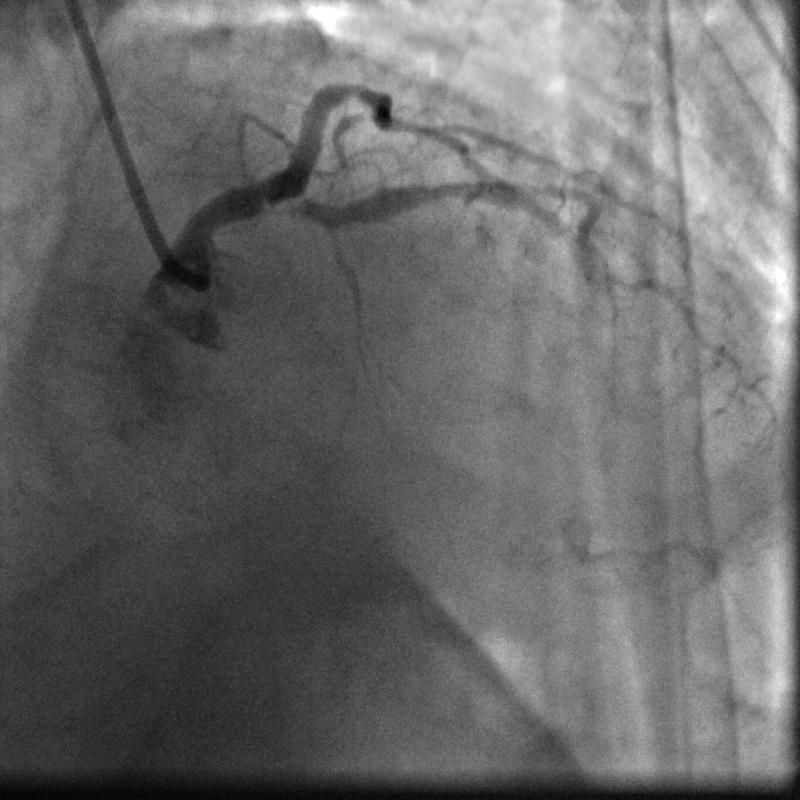Stenosis: (270, 185, 318, 229)
